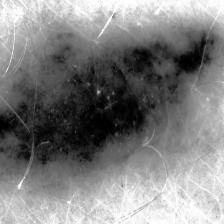Benign Marking or Mole: (0, 24, 224, 180)
